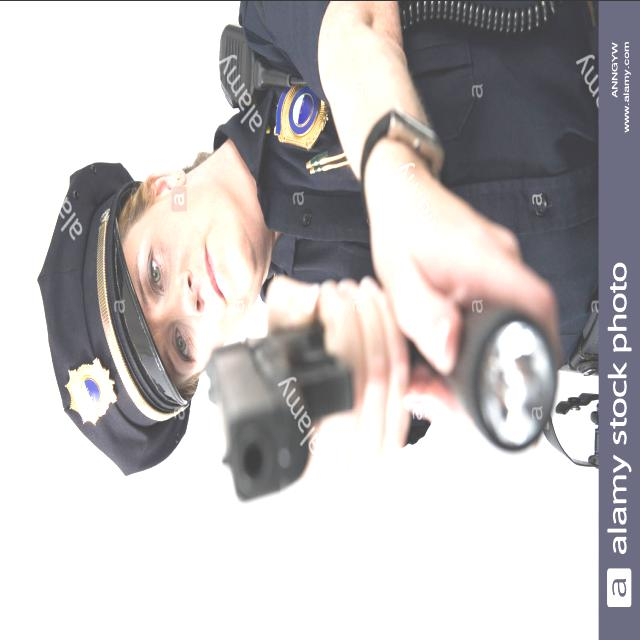handgun: (198, 319, 356, 509)
